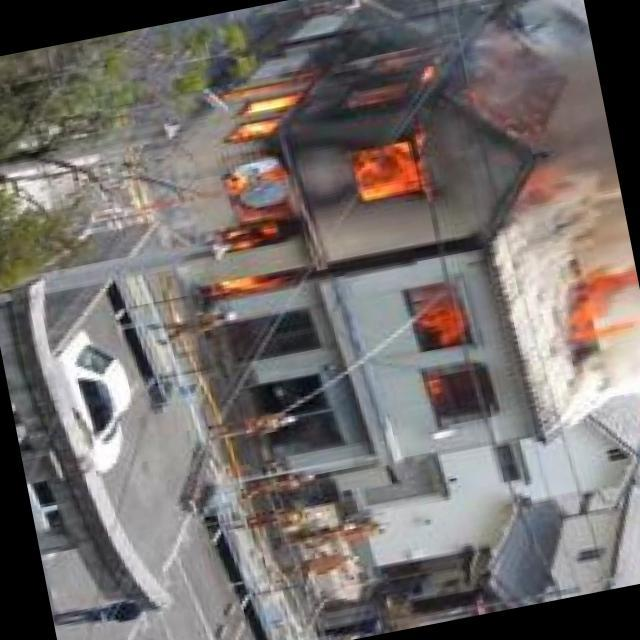Fire: (166, 36, 505, 314), (396, 281, 487, 427), (559, 256, 640, 365)
